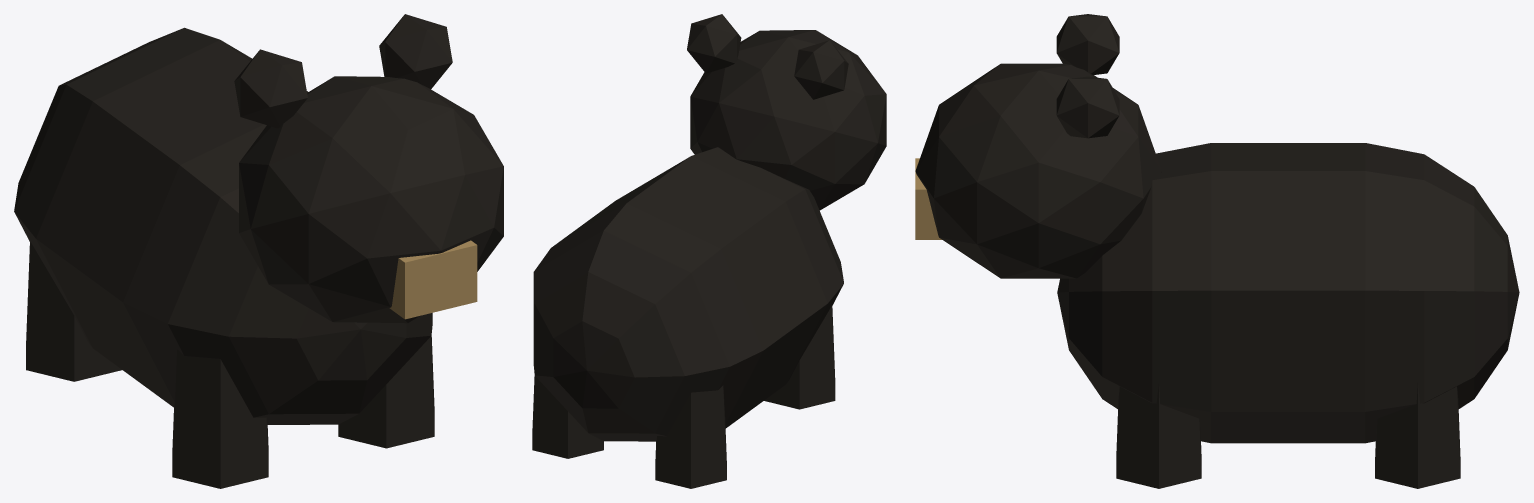
The model's file is beruang.glb.
3 views of the same model, side by side, from view 1: azimuth 30°, elevation 25°; view 2: azimuth 150°, elevation 25°; view 3: azimuth 270°, elevation 25° (orthographic). The views are drawn at different scales.
Parts seen in each view (by area): view 1: kbs_beruang, object 2; view 2: kbs_beruang, object 2; view 3: kbs_beruang, object 2.
Boxes of the visible parts, bbox=[...] form: kbs_beruang: bbox=[14, 27, 434, 488]; object 2: bbox=[234, 14, 503, 323]; kbs_beruang: bbox=[532, 147, 843, 488]; object 2: bbox=[687, 14, 886, 210]; kbs_beruang: bbox=[1057, 143, 1519, 488]; object 2: bbox=[915, 14, 1161, 278].
Size of the model in its own units: 0.5176 by 0.75 by 1.07.
